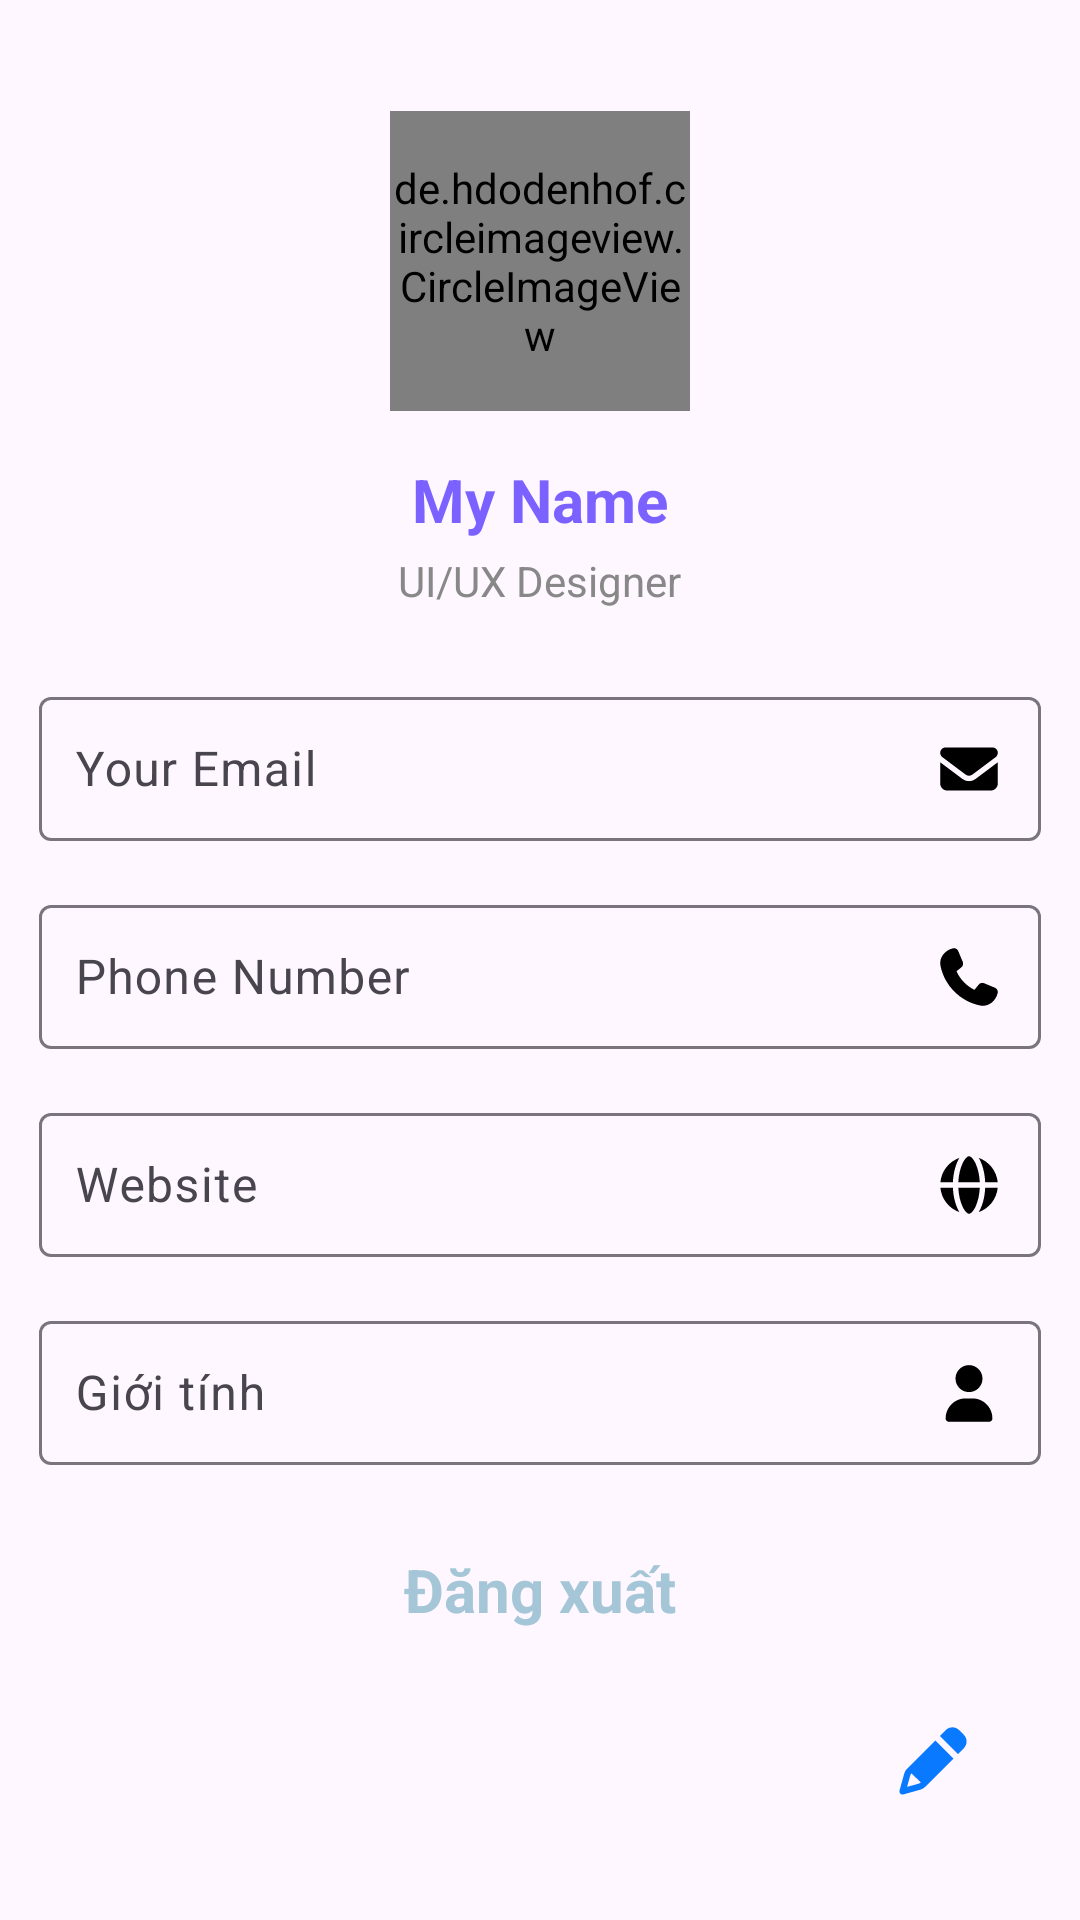

Named icons in this screenshot (1080×1920) and their bounding boxes, box=[x1, y1, x2, y2]:
pen: box=[899, 1727, 967, 1795]
